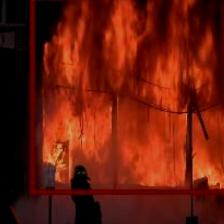fire: (29, 0, 224, 192)
